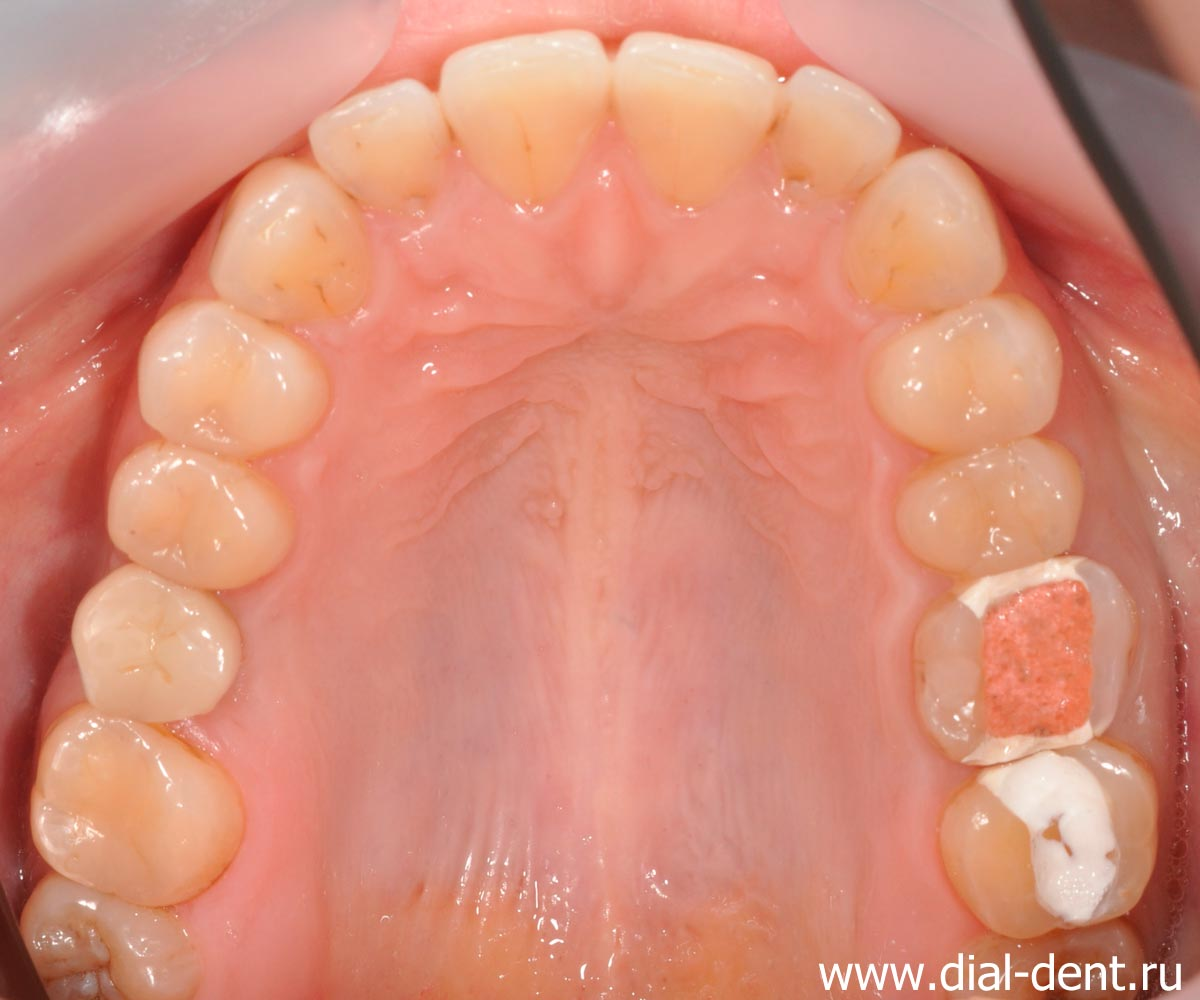UL1BC_healthy: (882, 305, 1066, 445)
UL1M_decay: (919, 574, 1132, 746)
UL2BC_healthy: (898, 444, 1083, 567)
UL2M_decay: (943, 758, 1154, 924)
ULCI_healthy: (617, 28, 778, 216)
ULC_healthy: (858, 155, 1011, 305)
ULLI_healthy: (780, 63, 896, 185)
UR1BC_healthy: (140, 311, 331, 453)
UR1M_healthy: (80, 580, 236, 726)
UR2BC_healthy: (111, 458, 288, 588)
UR2M_healthy: (37, 726, 243, 893), (34, 877, 187, 1000)
URCI_healthy: (441, 35, 606, 194)
URC_healthy: (217, 170, 374, 322)
URLI_healthy: (315, 89, 447, 201)
